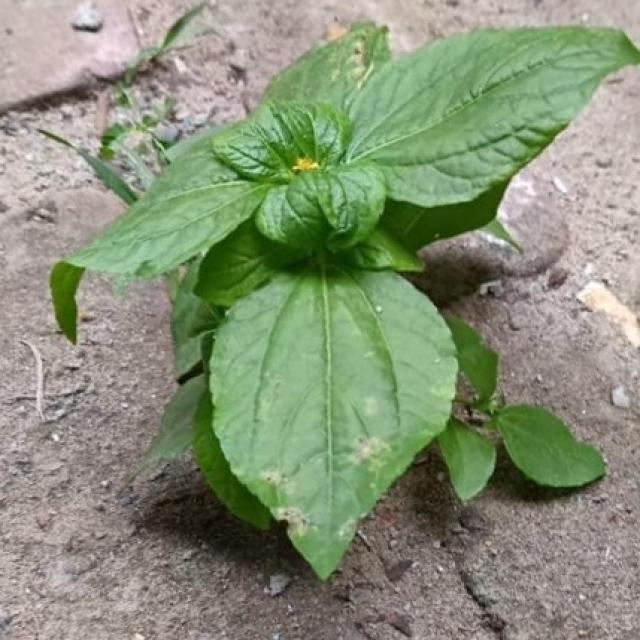weed: (49, 22, 640, 580), (397, 42, 504, 124)
